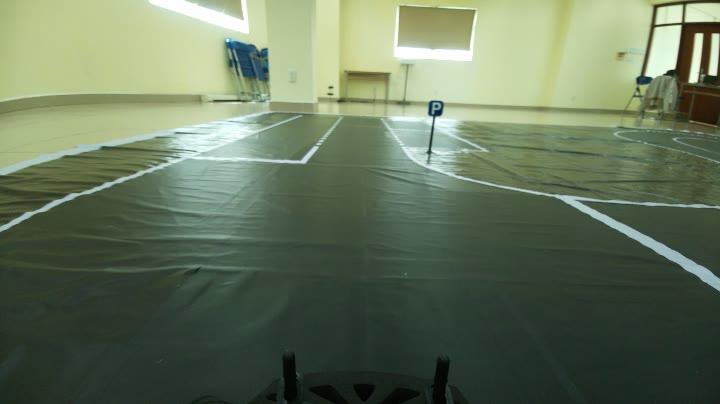parking: (417, 92, 454, 125)
